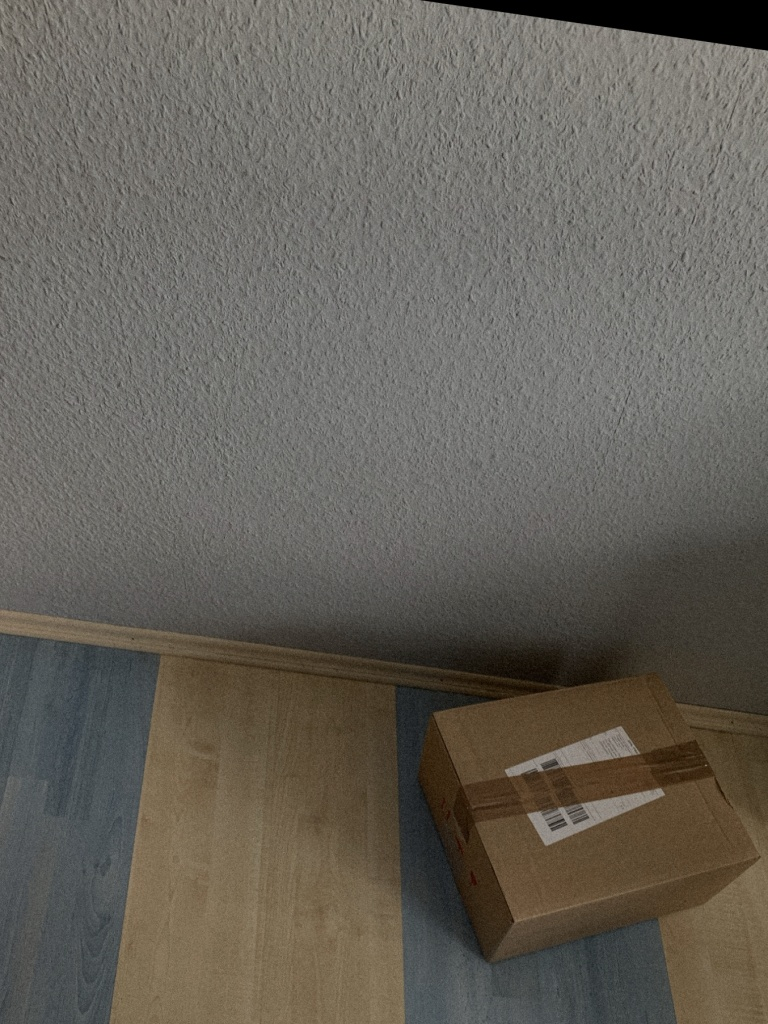good-parcel: (408, 666, 768, 964)
